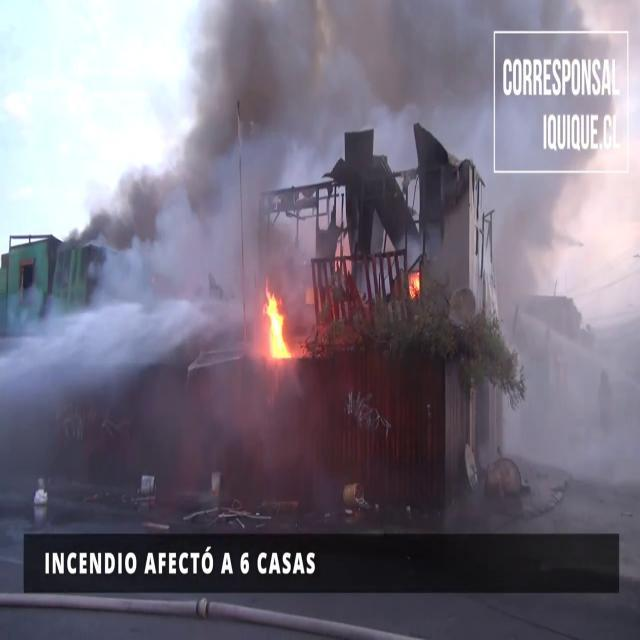Fire: (262, 286, 292, 364)
Smoke: (3, 1, 314, 356), (187, 0, 528, 213), (497, 0, 640, 487)
